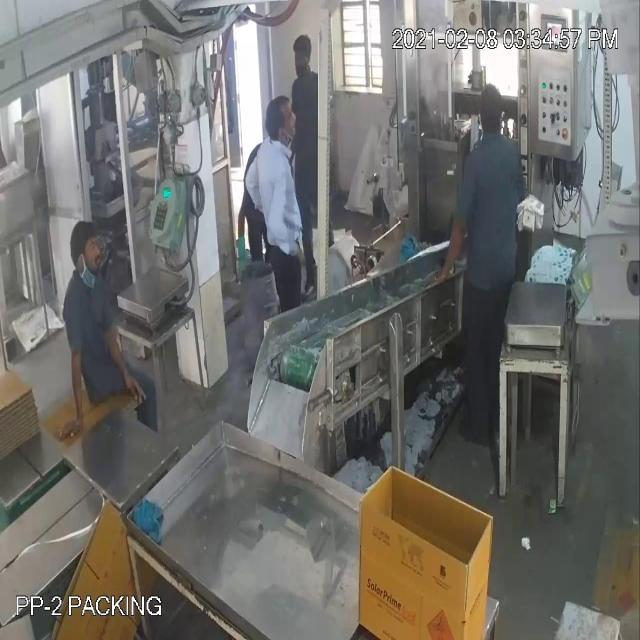gloves: (226, 214, 254, 284)
no-gloves: (102, 302, 156, 420), (58, 326, 92, 454), (423, 203, 472, 289), (260, 178, 306, 268), (324, 101, 346, 216)
